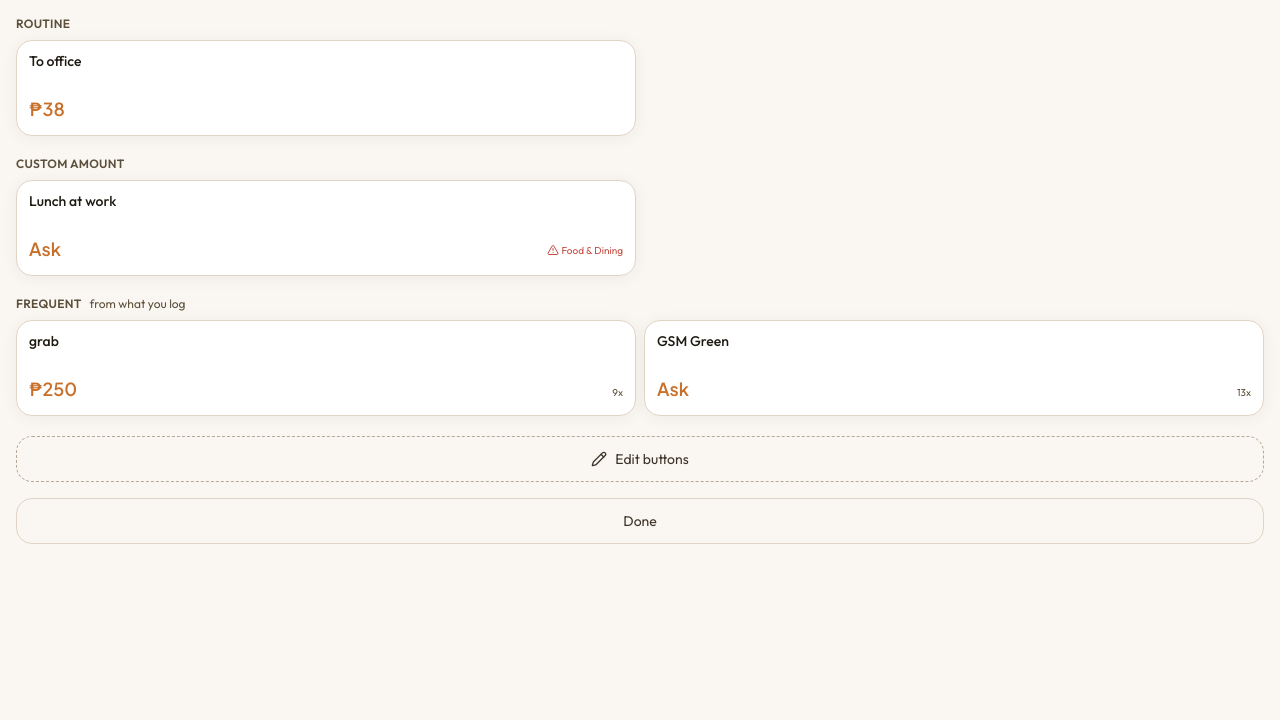
TelegramApp: logging › names the category on the confirmation
The width and height of the screenshot is (1280, 720).
Click the text "To office": point(55, 62) [29,53,81,70]
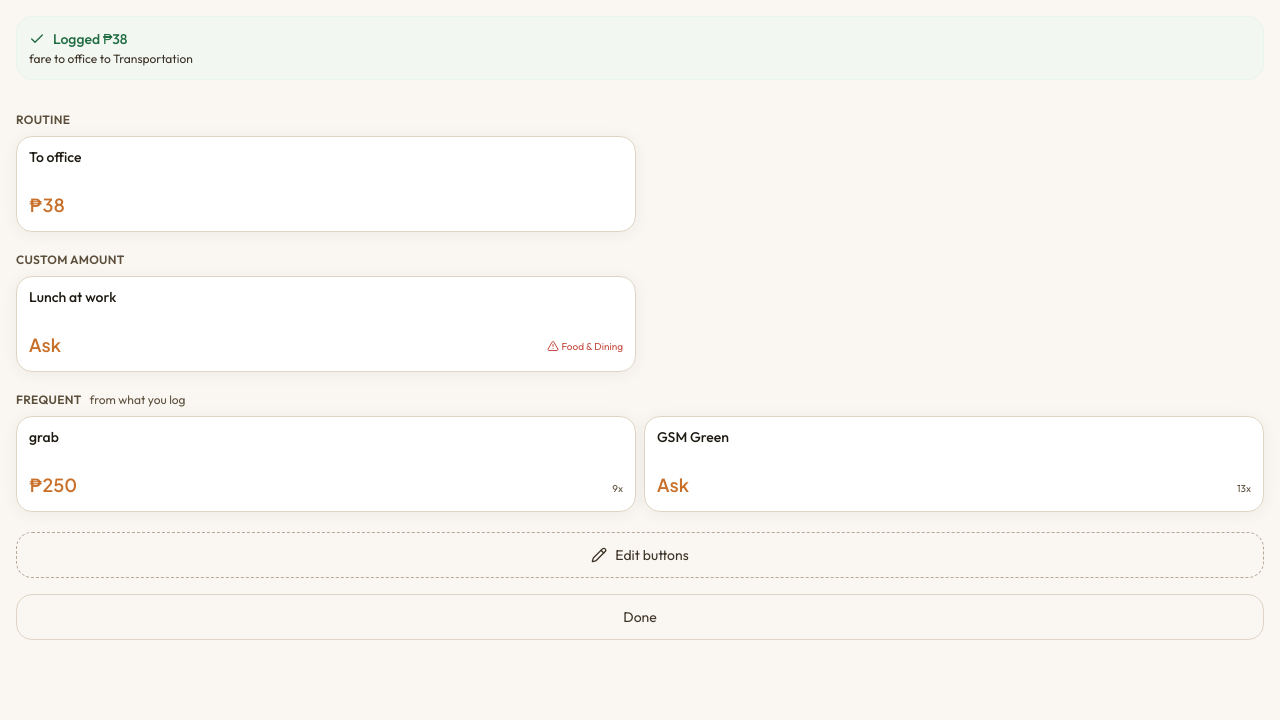
Expected: the text "fare to office to Transportation" is shown, [29,51,193,66]
